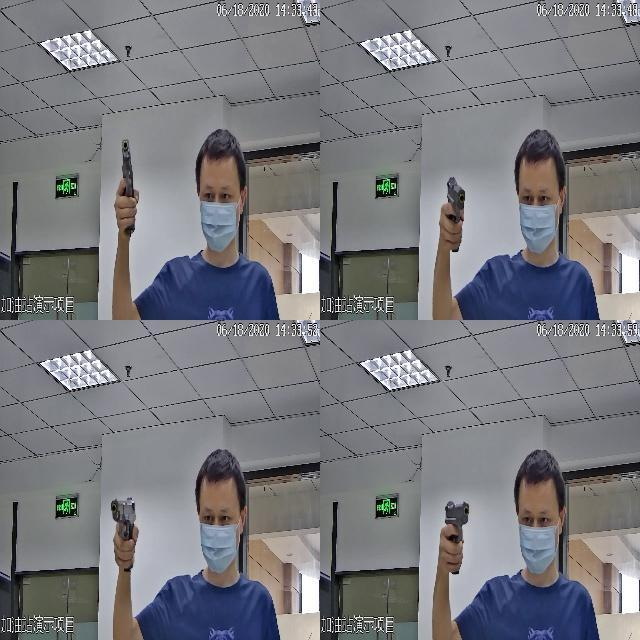gun-knife-thesis - v11 Yolov5 augmented: (113, 136, 140, 236), (107, 489, 138, 568), (443, 497, 468, 576), (445, 174, 466, 255)
